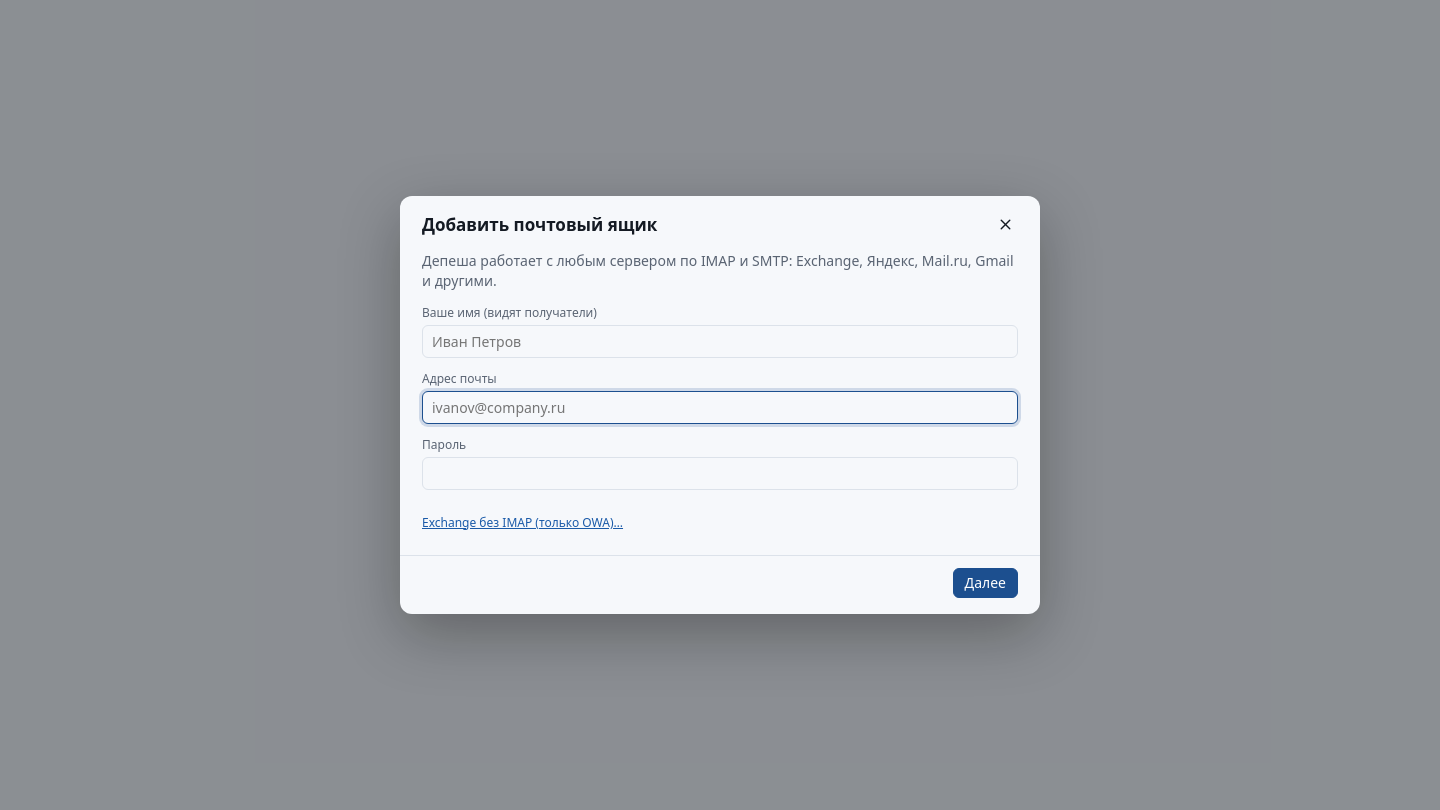
Scenario: the error of a failed check in the wizard (А3) › stands right under the login and the password, before the servers, and is scrolled to
In the field labelled "Адрес почты": (720, 407) top-left (422, 391), bottom-right (1018, 424), type "jane@example.com"
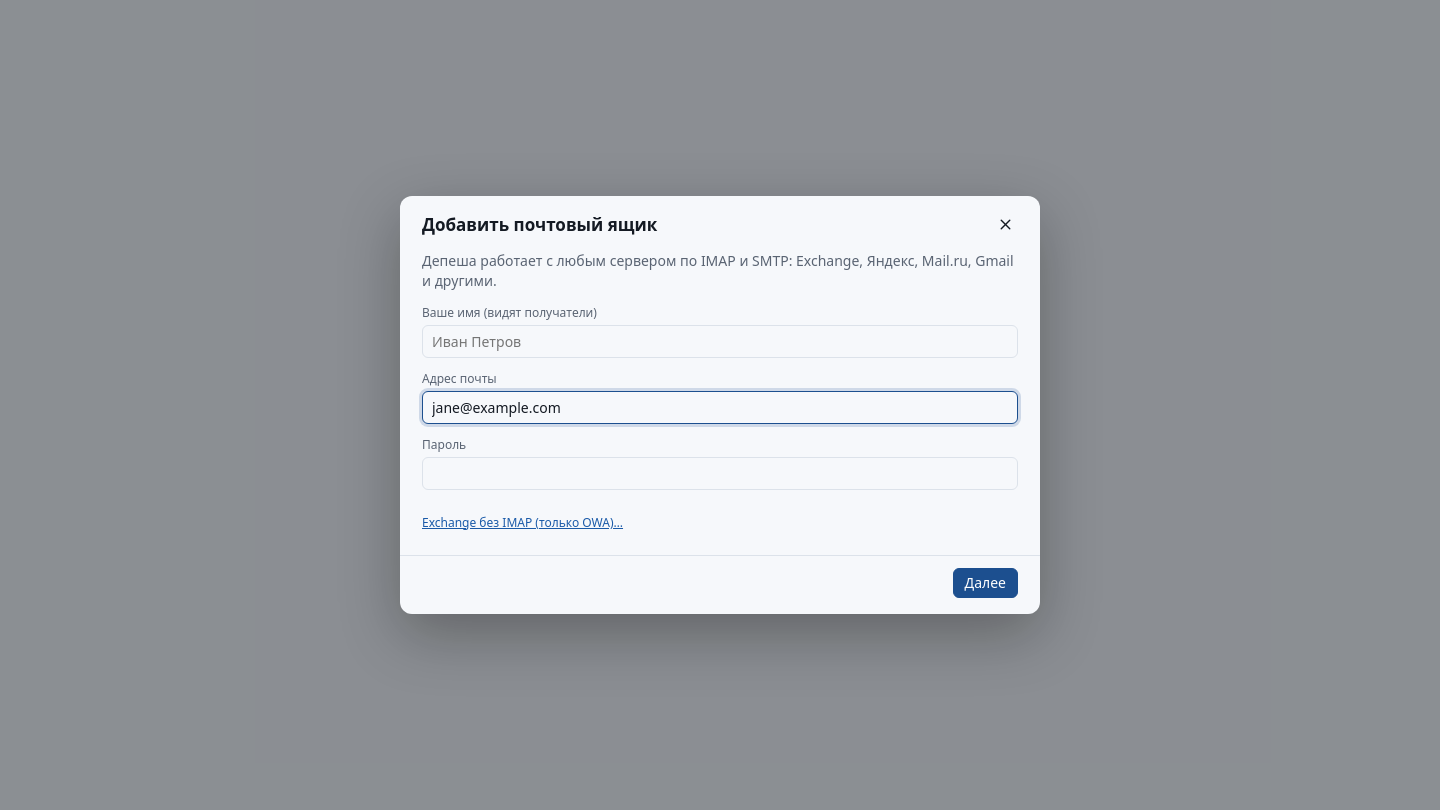
In the password field labelled "Пароль": (720, 473) top-left (422, 457), bottom-right (1018, 490), type "secret"
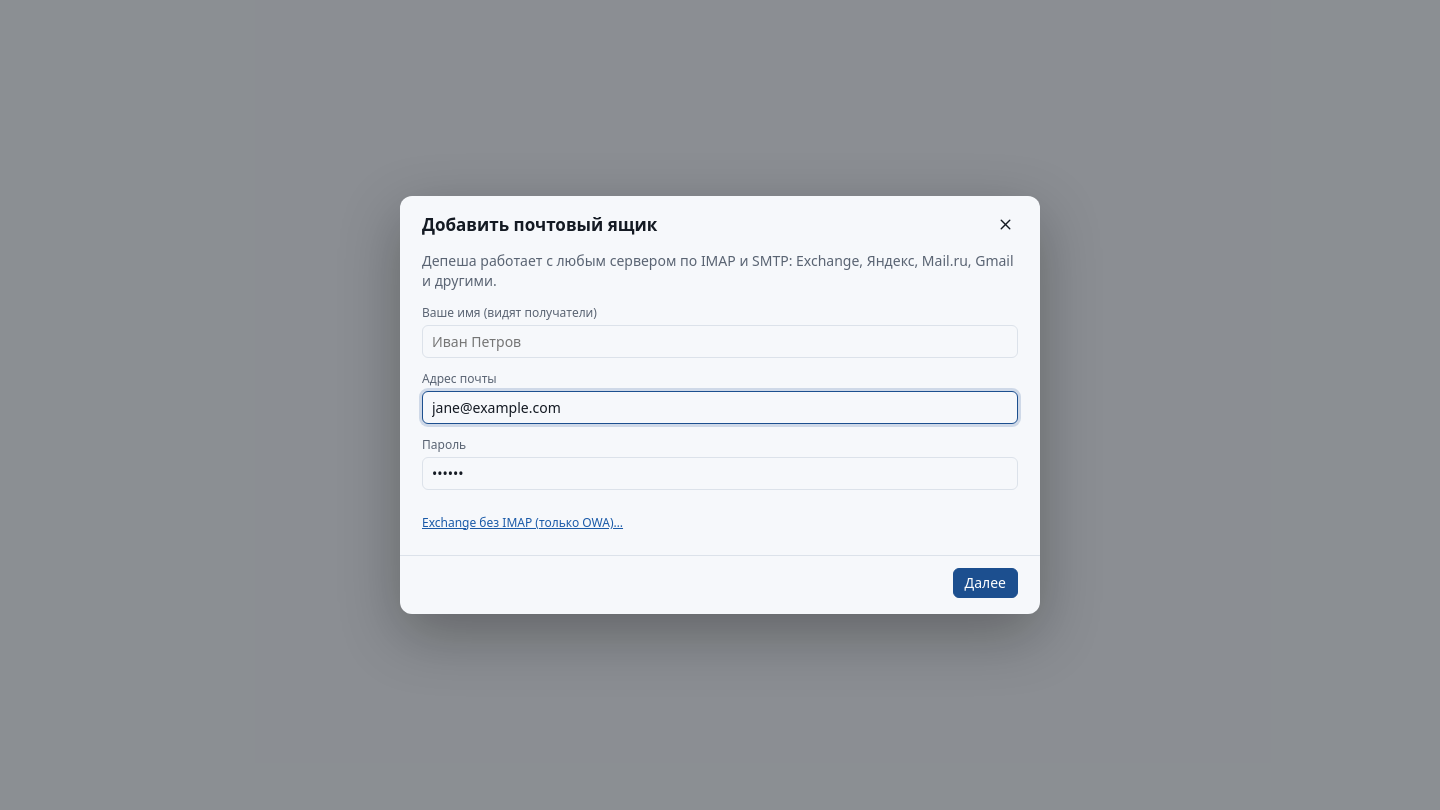
Click the button "Далее": (985, 583) top-left (953, 568), bottom-right (1018, 598)
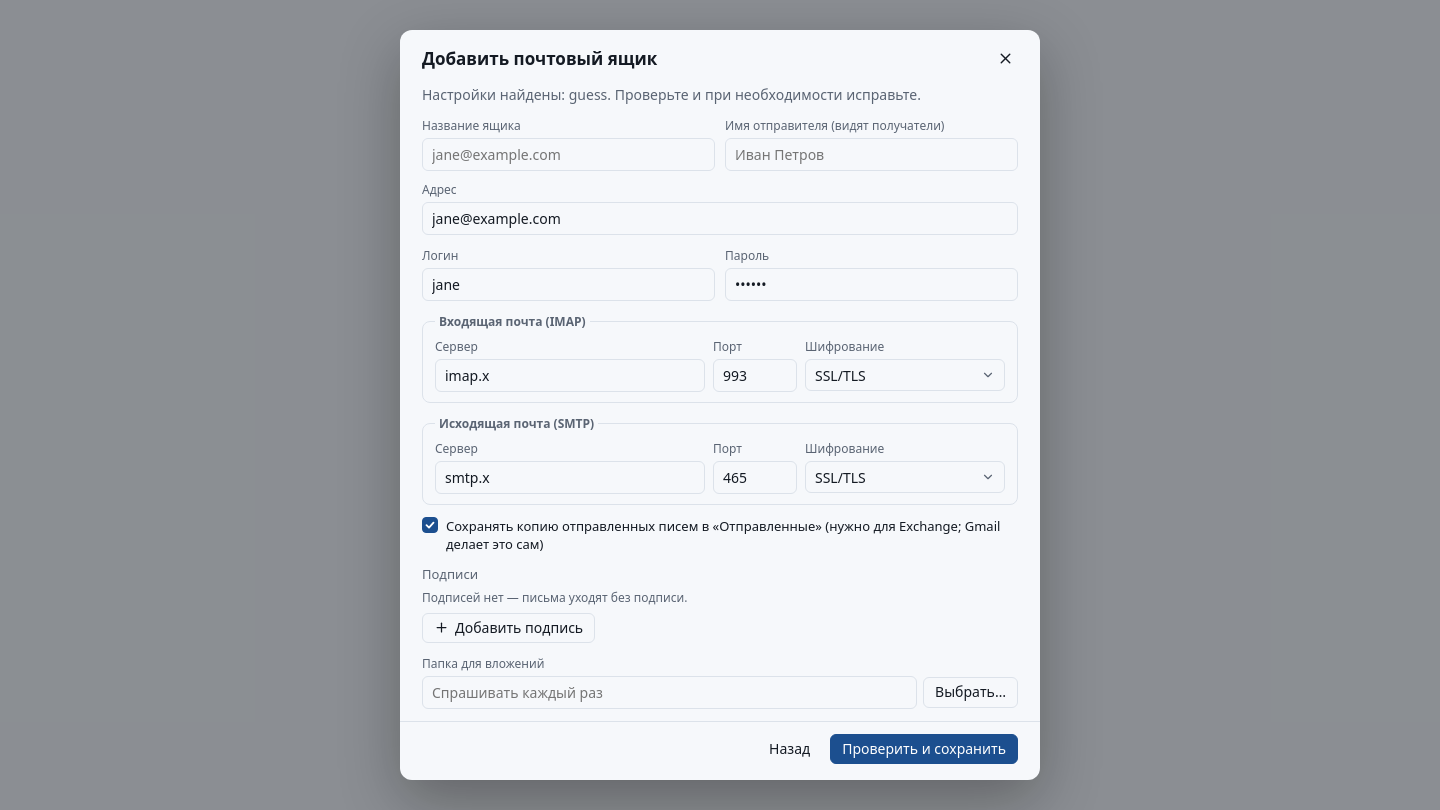
Expected: the element showing "Входящая почта (IMAP) Сервер Порт Шифрование SSL/TLS" is shown, top-left (422, 313), bottom-right (1018, 403)
Click the button "Проверить и сохранить": (924, 749) top-left (830, 734), bottom-right (1018, 764)
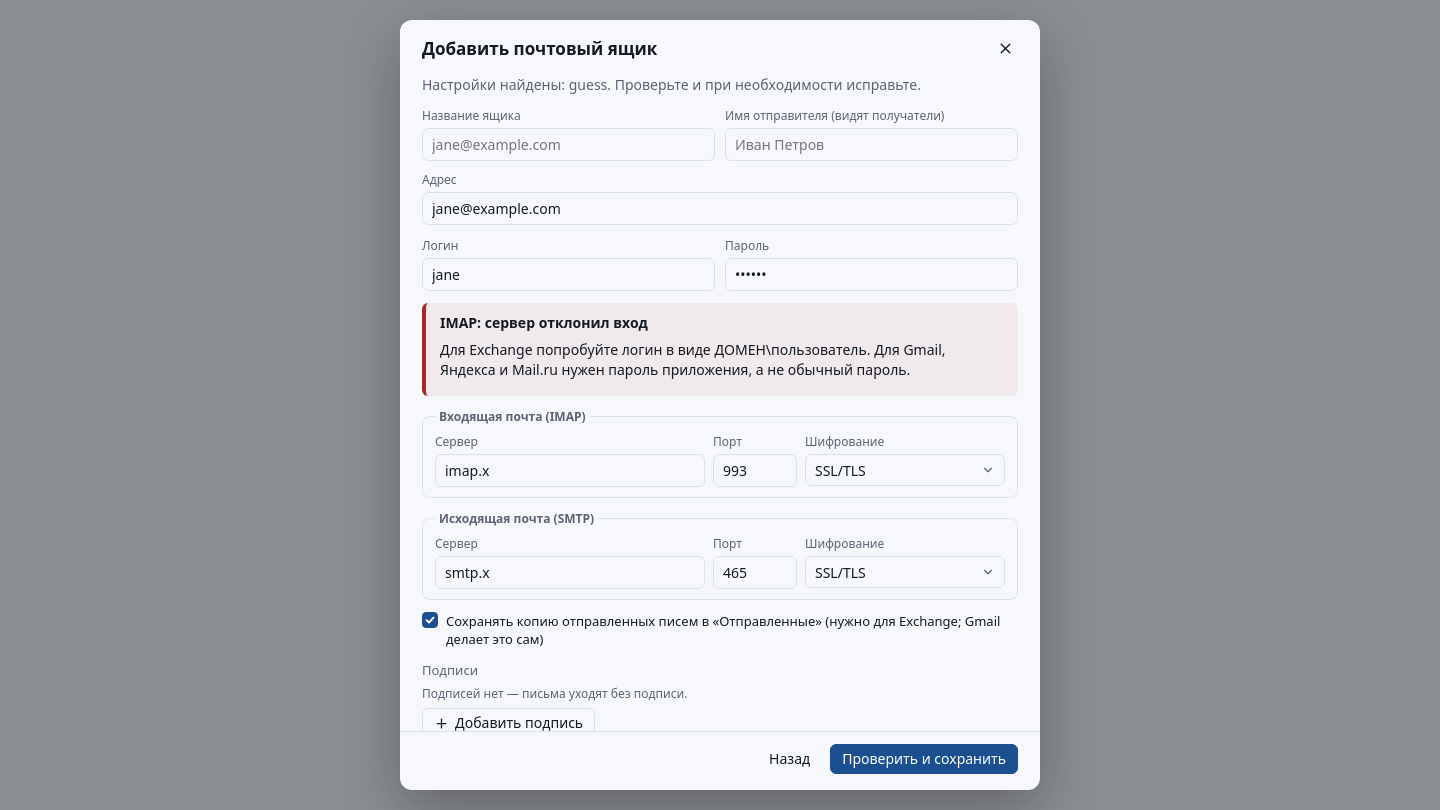
Expected: the password field labelled "Пароль" is shown, top-left (725, 258), bottom-right (1018, 291)
Expected: the number of elements with class "error" is 1, top-left (422, 303), bottom-right (1018, 396)
